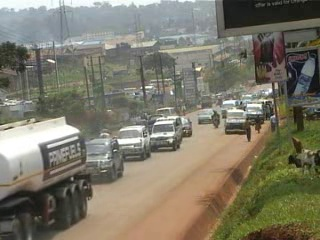Car: (83, 135, 127, 182), (111, 123, 152, 163), (147, 117, 183, 155), (194, 103, 216, 126), (177, 113, 194, 138)
Motorcycle: (211, 107, 220, 131)
